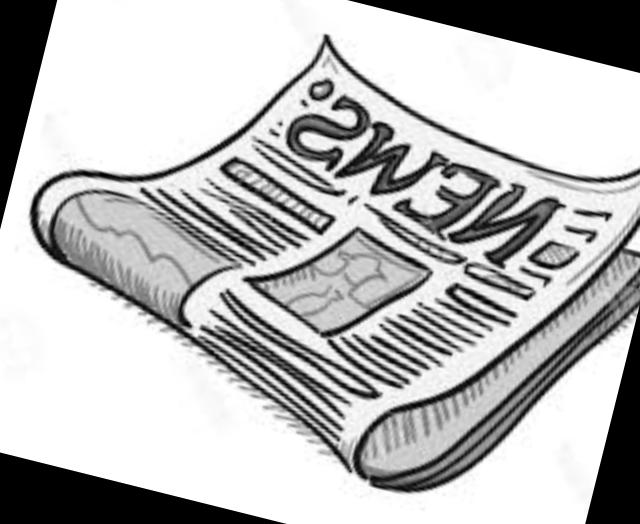cardboard paper: (32, 28, 640, 491), (36, 34, 640, 485)
